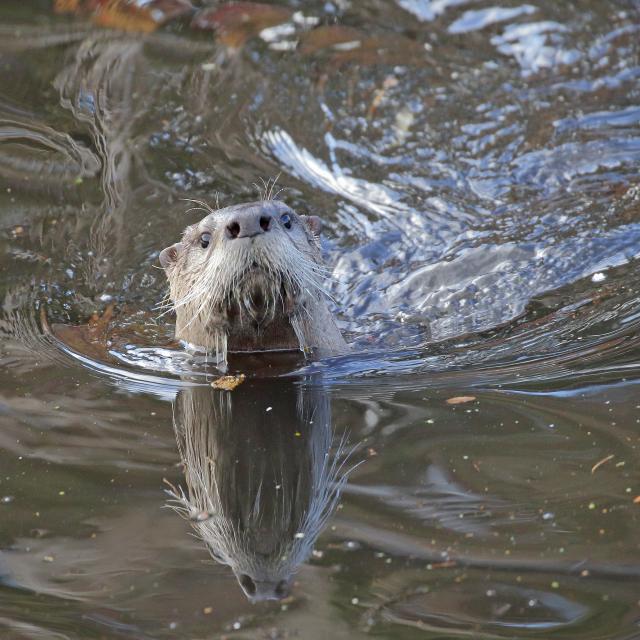otter: (159, 201, 340, 356)
